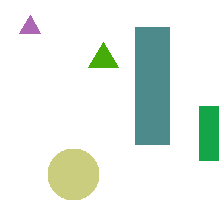circle: (48, 149, 98, 199)
rectangle: (135, 27, 169, 144), (199, 106, 218, 160)
triangle: (88, 42, 118, 67), (19, 15, 40, 33)
